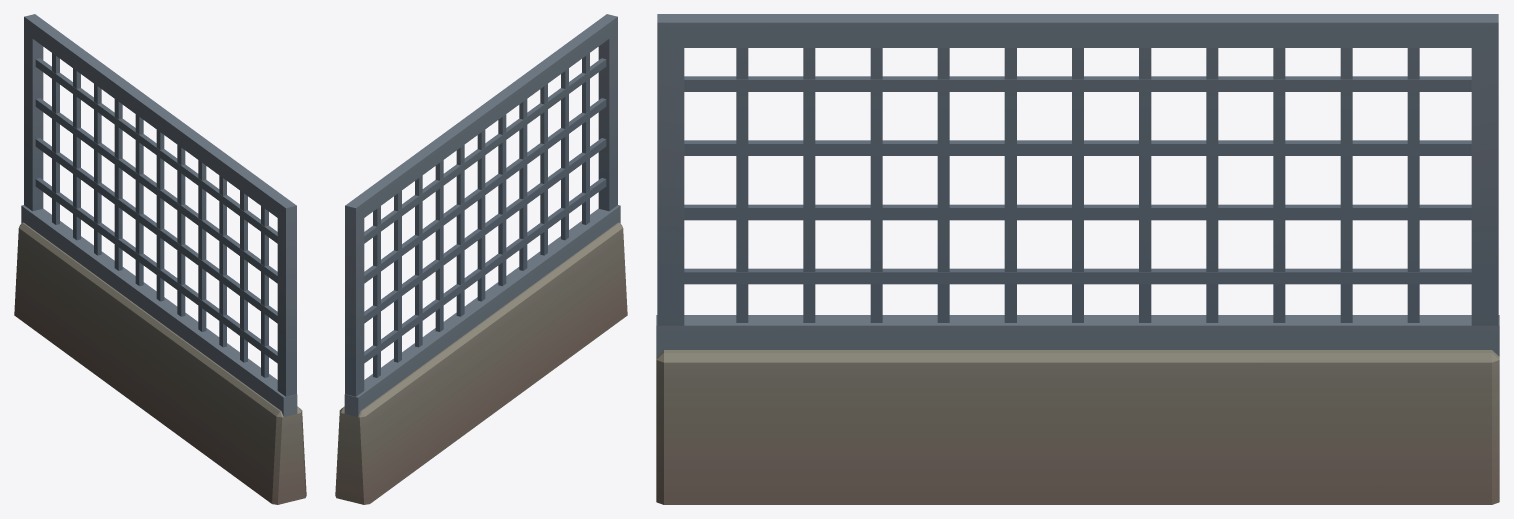
File: Fence_1_A_4.fbx
The picture shows the model from 3 angles, left to right: view 1: azimuth 30°, elevation 25°; view 2: azimuth 150°, elevation 25°; view 3: azimuth 270°, elevation 25°; orthographic projection. The views are drawn at different scales.
Visible parts, largest first — view 1: Fence_1_A_4; view 2: Fence_1_A_4; view 3: Fence_1_A_4.
Part boxes in pixels (<box>): Fence_1_A_4: <box>14,14,306,504</box>; Fence_1_A_4: <box>335,14,627,504</box>; Fence_1_A_4: <box>656,14,1499,504</box>.
Bounding box in the file's own units: 30.52 × 248 × 400.
